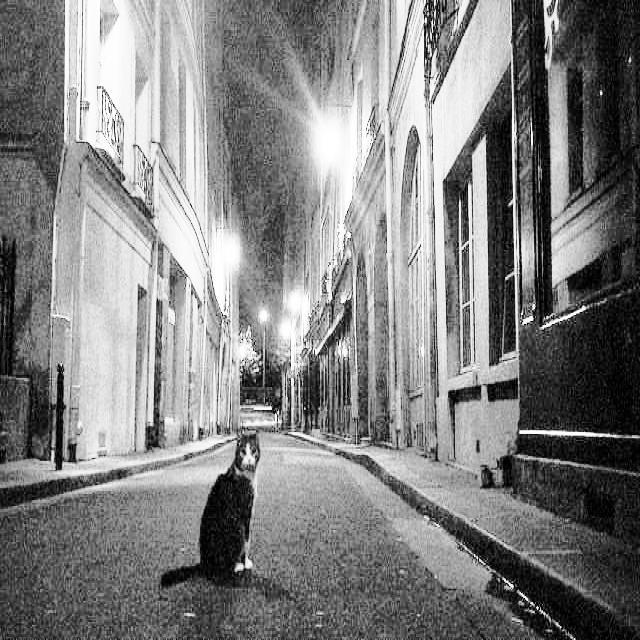Cat: (191, 429, 277, 601)
